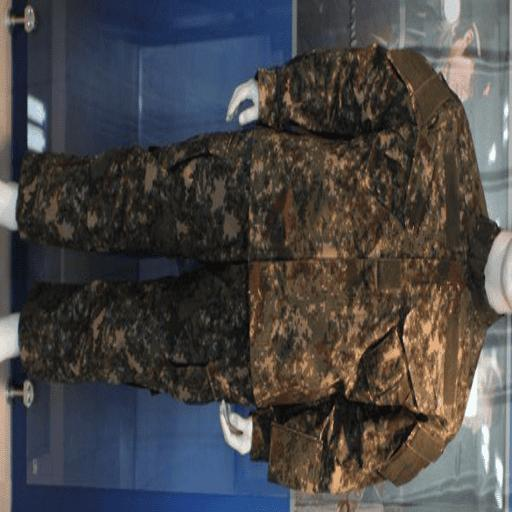korea army: (14, 40, 510, 496)
